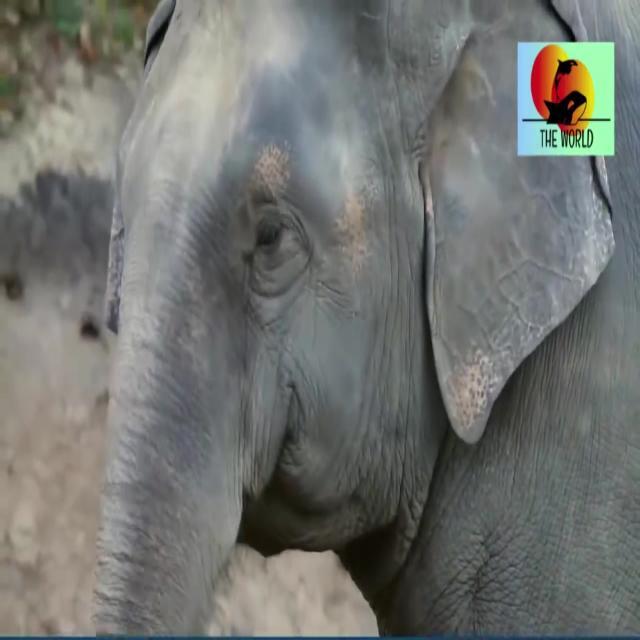Elephant: (96, 4, 511, 624)
